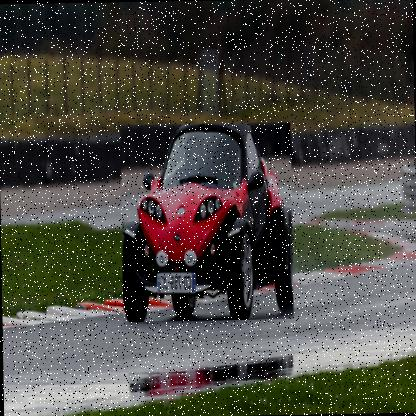Car: (119, 123, 293, 323)
